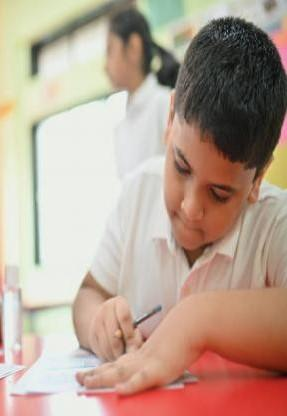good: (4, 7, 287, 404)
